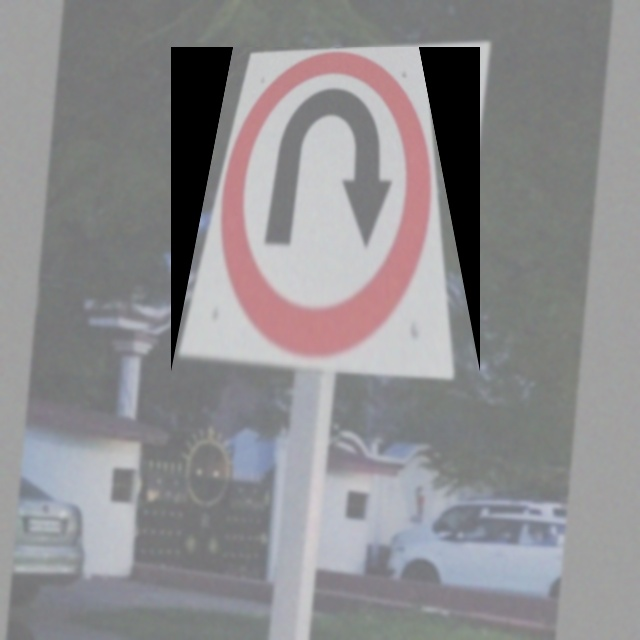U_Turn_Ahead: (171, 47, 480, 372)
